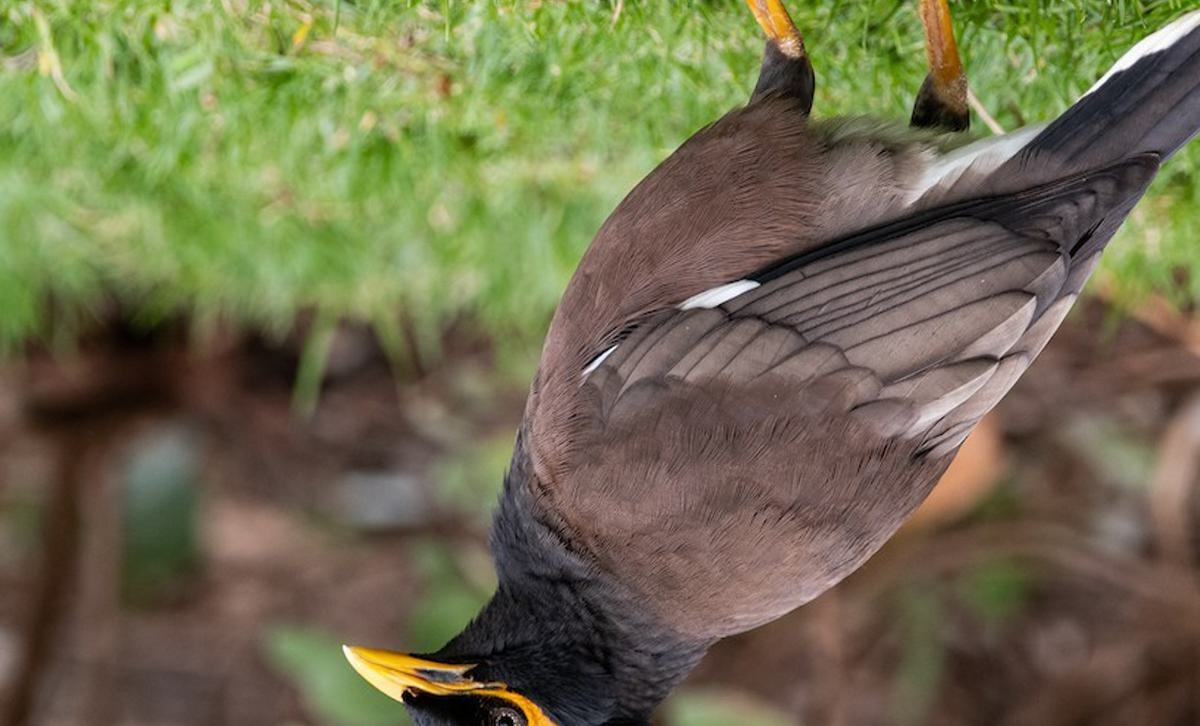myna: (299, 1, 1198, 721)
